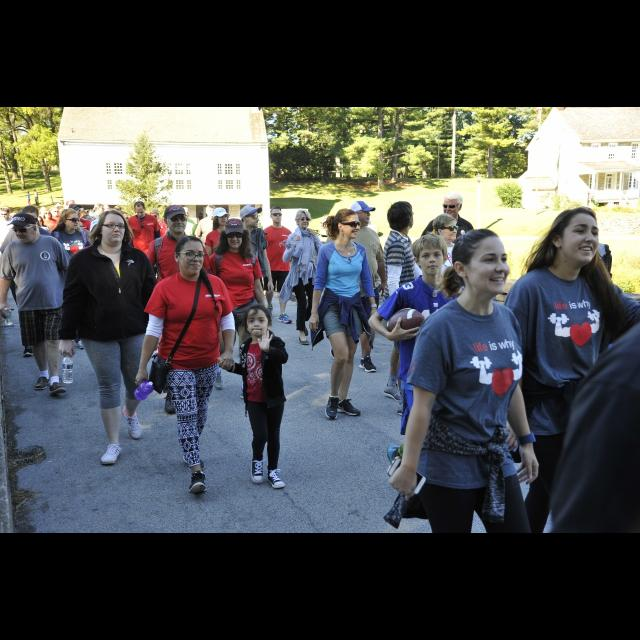head: (452, 229, 512, 297), (552, 207, 600, 265), (412, 235, 450, 277), (174, 235, 206, 277), (98, 209, 126, 243), (334, 208, 362, 240), (246, 305, 274, 337), (12, 212, 38, 244), (433, 214, 459, 242), (164, 204, 188, 234), (389, 203, 415, 229), (443, 193, 463, 219), (226, 222, 244, 250), (351, 201, 371, 225), (240, 205, 260, 229), (22, 205, 40, 231), (63, 210, 79, 230), (214, 211, 230, 227), (297, 210, 311, 228), (134, 201, 146, 219), (270, 208, 282, 224), (206, 205, 218, 218), (2, 206, 12, 216), (34, 190, 36, 192), (27, 192, 29, 194)
person: (134, 234, 238, 498), (368, 231, 476, 485), (56, 207, 160, 469), (304, 207, 382, 425), (394, 214, 472, 424), (144, 203, 220, 415), (0, 212, 78, 396), (216, 302, 290, 493), (318, 196, 388, 376), (206, 216, 270, 402), (418, 190, 484, 352), (377, 198, 421, 406), (0, 205, 56, 361), (48, 206, 100, 358), (277, 208, 331, 348), (230, 203, 276, 347), (123, 200, 163, 330), (255, 206, 298, 326), (202, 206, 238, 314), (193, 205, 229, 287), (0, 206, 20, 284), (32, 189, 42, 207), (26, 190, 32, 206)
